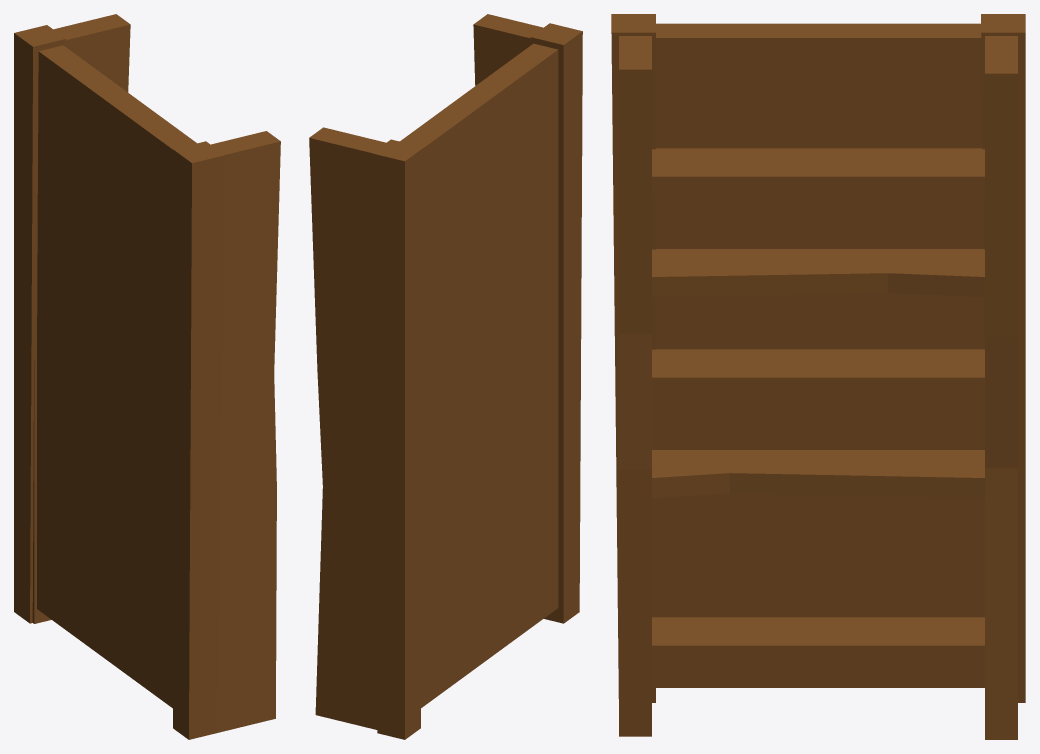
The model's file is BookShelf.001.fbx.
The picture shows the model from 3 angles, left to right: view 1: azimuth 30°, elevation 25°; view 2: azimuth 150°, elevation 25°; view 3: azimuth 270°, elevation 25°; orthographic projection. The views are drawn at different scales.
Parts seen in each view (by area): view 1: WoodenShelf.001; view 2: WoodenShelf.001; view 3: WoodenShelf.001.
Boxes of the visible parts, left/top/right/bottom form: WoodenShelf.001: left=14, top=14, right=280, bottom=739; WoodenShelf.001: left=309, top=14, right=582, bottom=739; WoodenShelf.001: left=611, top=14, right=1025, bottom=739.
Size of the model in its own units: 0.36 by 2.01 by 1.12.
